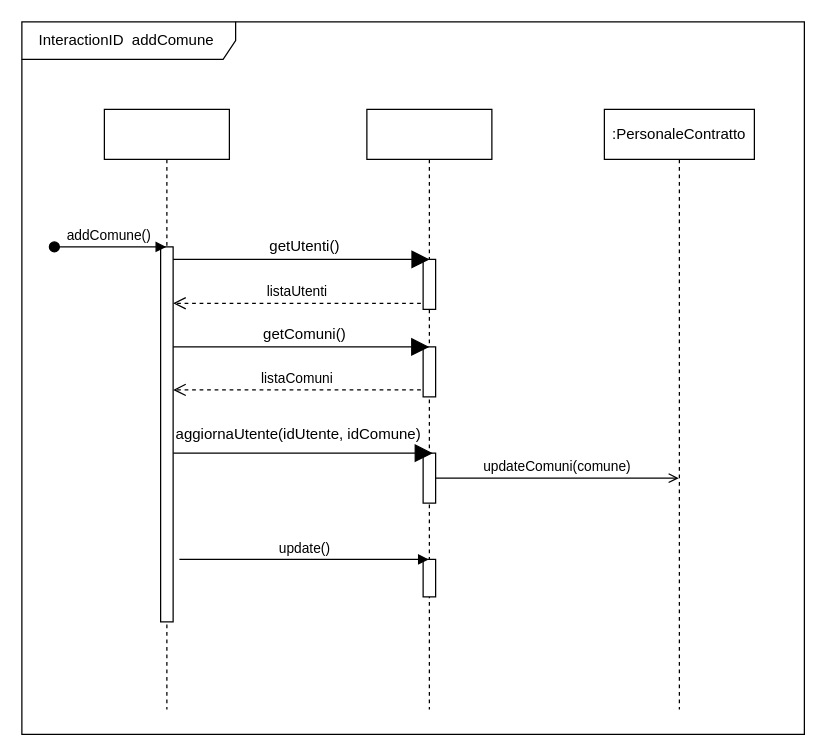
Some shapes in this 826 by 756 pixel diagram are drawn without their labels. The shapes that lost their labels are listed below. From the top down, each one's box as (x1, y1, x2, y2) in pixels, then its label:
(103, 108, 229, 709): :PE1EController
(366, 108, 492, 709): :Modello
